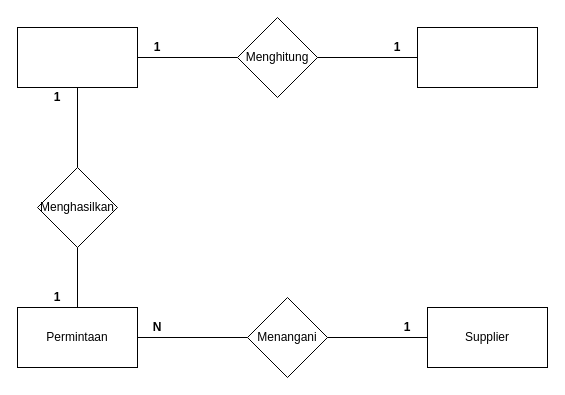
Some shapes in this 565 by 395 pixel diagram are drawn without their labels. Here are the shapes that lost their labels. From the top down, the centre of each, then its label:
At [77,57]: "Nota Penerimaan".
At [477,57]: "Kontraktor".
